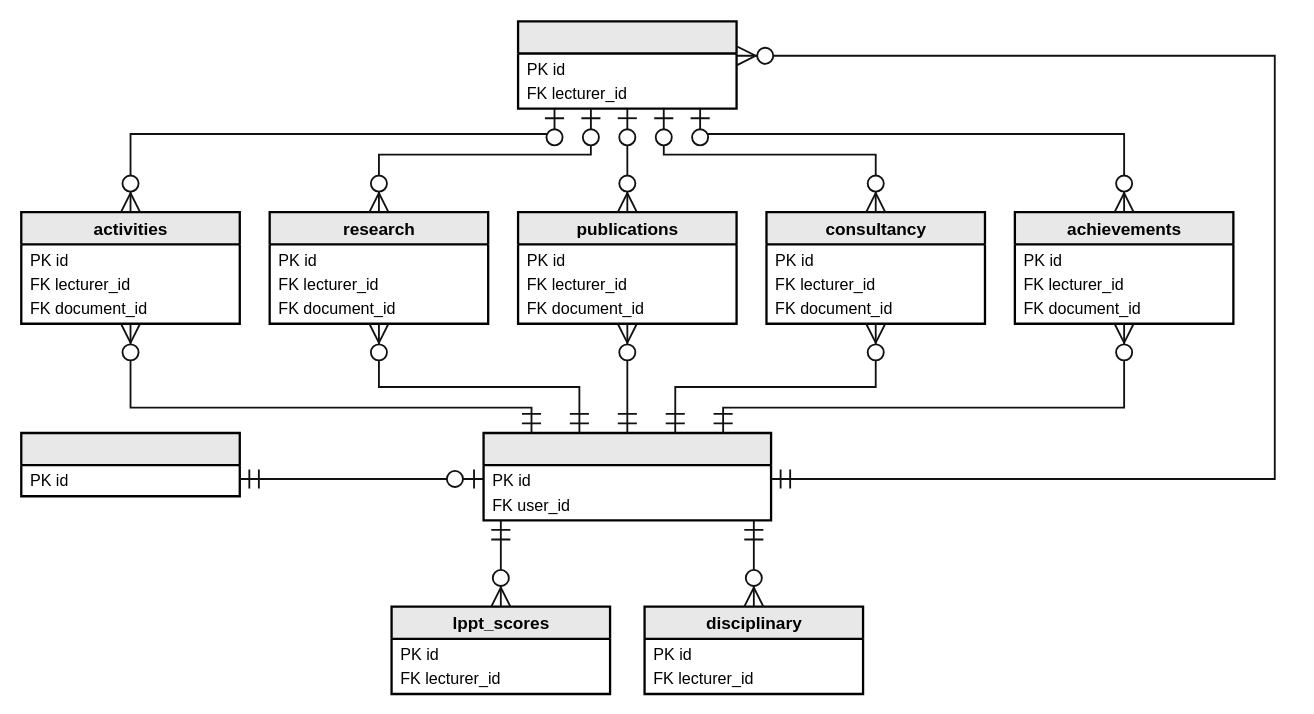
This 1314x714 diagram has some shape labels left out. The box of each missing label's shape, as (x1, y1, x2, y2) in pixels:
documents: (516, 20, 737, 109)
lecturers: (482, 431, 772, 521)
users: (20, 431, 240, 497)
